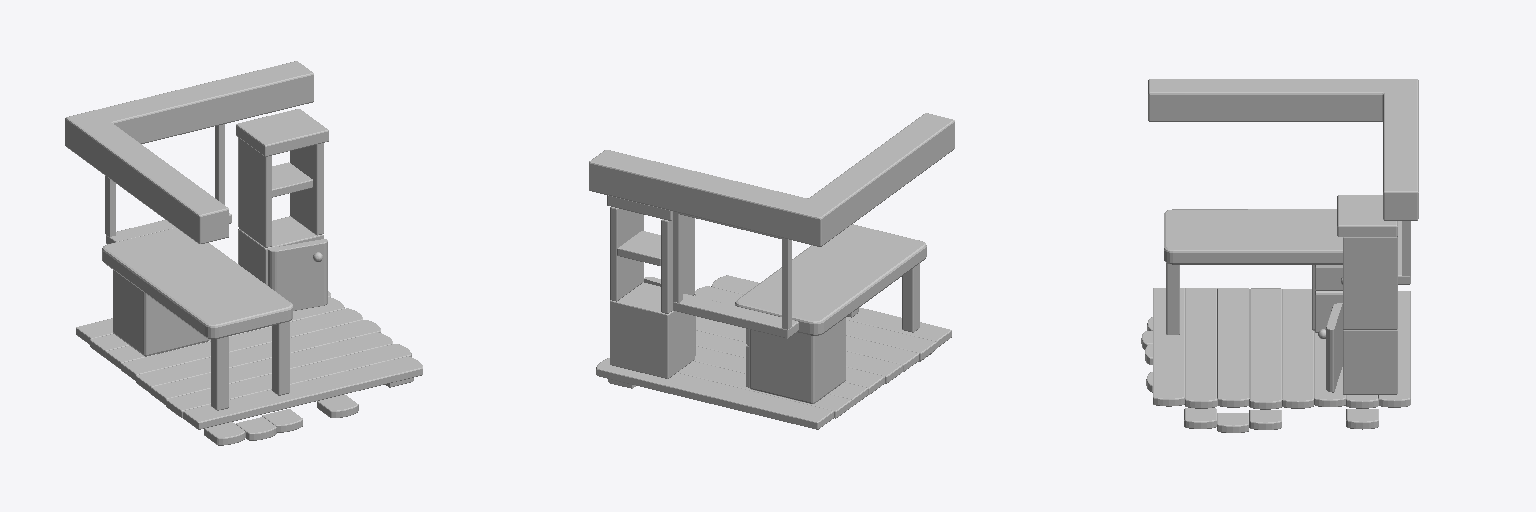
The model's file is WoodTexture.obj.
The picture shows the model from 3 angles: view 1: azimuth 30°, elevation 25°; view 2: azimuth 150°, elevation 25°; view 3: azimuth 270°, elevation 25°; orthographic projection.
Visible parts, largest first — view 1: Room TopWallTrim, TableTop Desk, Room UpperFloorPlanks FloorPlank8, Desk DeskDrawers, ShelfCabnet Shelf, Room UpperFloorPlanks FloorPlank7, Room UpperFloorPlanks FloorPlank5, Room UpperFloorPlanks FloorPlank6, Room UpperFloorPlanks FloorPlank4, Shelf ShelfSide1, Shelf ShelfTop1, Shelf ShelfSide2 (+12 smaller); view 2: Room TopWallTrim, TableTop Desk, Desk DeskDrawers, Shelf ShelfBottom, Room FloorPlank1 UpperFloorPlanks, Shelf ShelfSide2, Room WindowSillTop, Shelf ShelfSide1, Room UpperFloorPlanks FloorPlank7, Room WindowStillTop, Room UpperFloorPlanks FloorPlank8, Room UpperFloorPlanks FloorPlank5 (+7 smaller); view 3: Room TopWallTrim, TableTop Desk, Shelf ShelfSide2, Room UpperFloorPlanks FloorPlank6, Room UpperFloorPlanks FloorPlank5, Room UpperFloorPlanks FloorPlank7, Room UpperFloorPlanks FloorPlank4, Shelf ShelfBottom, Room UpperFloorPlanks FloorPlank8, Shelf ShelfTop1, Room FloorPlank1 UpperFloorPlanks, ShelfCabnet Shelf (+8 smaller).
Boxes of the visible parts, box(x1,y1,x2,y2) form: Room TopWallTrim: box(65, 61, 313, 243); TableTop Desk: box(102, 228, 292, 338); Room UpperFloorPlanks FloorPlank8: box(183, 356, 422, 429); Desk DeskDrawers: box(113, 270, 208, 356); ShelfCabnet Shelf: box(268, 239, 327, 310); Room UpperFloorPlanks FloorPlank7: box(166, 344, 411, 417); Room UpperFloorPlanks FloorPlank5: box(136, 320, 380, 393); Room UpperFloorPlanks FloorPlank6: box(151, 332, 392, 404); Room UpperFloorPlanks FloorPlank4: box(121, 308, 362, 380); Shelf ShelfSide1: box(238, 137, 271, 247); Shelf ShelfTop1: box(236, 109, 328, 156); Shelf ShelfSide2: box(290, 143, 323, 235); Room TopWallTrim: box(589, 113, 954, 246); TableTop Desk: box(735, 224, 926, 335); Desk DeskDrawers: box(749, 318, 845, 403); Shelf ShelfBottom: box(610, 282, 694, 378); Room FloorPlank1 UpperFloorPlanks: box(596, 358, 833, 429); Shelf ShelfSide2: box(610, 207, 643, 301); Room WindowSillTop: box(673, 294, 798, 338); Shelf ShelfSide1: box(661, 215, 694, 313); Room UpperFloorPlanks FloorPlank7: box(696, 286, 936, 360); Room WindowStillTop: box(673, 211, 791, 329); Room UpperFloorPlanks FloorPlank8: box(711, 275, 951, 347); Room UpperFloorPlanks FloorPlank5: box(696, 316, 902, 383); Room TopWallTrim: box(1148, 79, 1418, 220); TableTop Desk: box(1164, 209, 1342, 264); Shelf ShelfSide2: box(1343, 237, 1397, 329); Room UpperFloorPlanks FloorPlank6: box(1217, 288, 1249, 407); Room UpperFloorPlanks FloorPlank5: box(1249, 288, 1281, 409); Room UpperFloorPlanks FloorPlank7: box(1185, 288, 1217, 408); Room UpperFloorPlanks FloorPlank4: box(1282, 289, 1313, 408); Shelf ShelfBottom: box(1343, 329, 1397, 394); Room UpperFloorPlanks FloorPlank8: box(1153, 288, 1184, 406); Shelf ShelfTop1: box(1337, 195, 1397, 236); Room FloorPlank1 UpperFloorPlanks: box(1378, 291, 1410, 407); ShelfCabnet Shelf: box(1326, 303, 1342, 392).
Bounding box in the file's own units: 3.54 × 3.27 × 3.48.